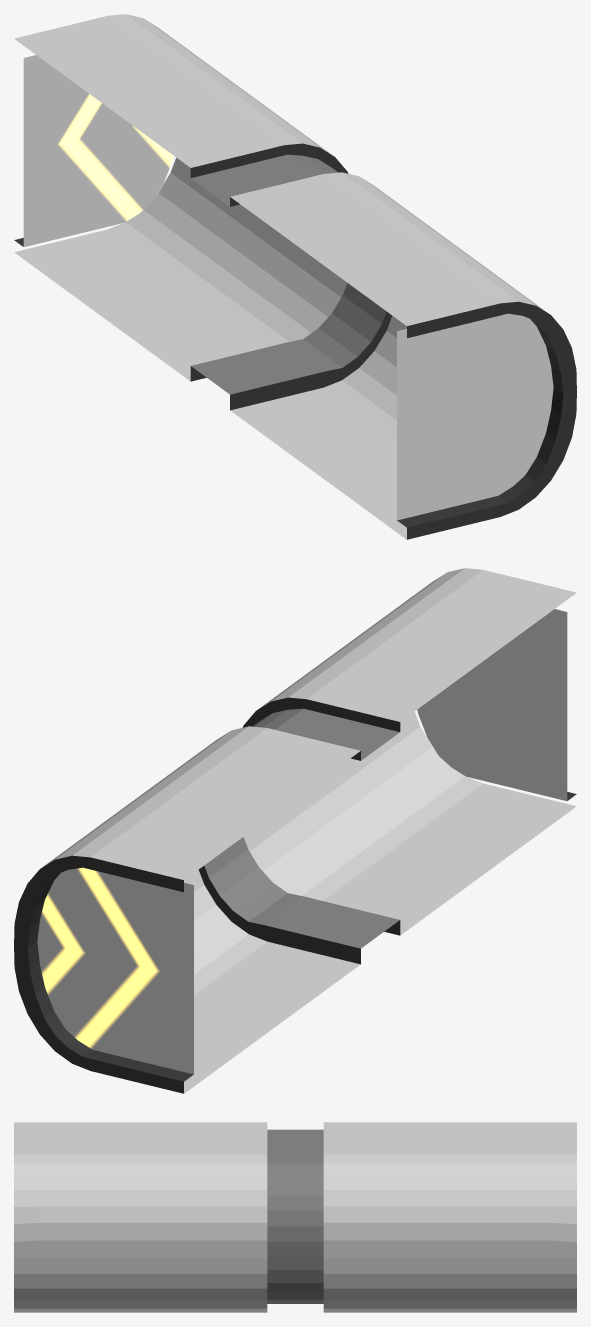
File: LP_GPE_ConveyerBeltTAIL2.fbx
The picture shows the model from 3 angles, top to bottom: view 1: azimuth 30°, elevation 25°; view 2: azimuth 150°, elevation 25°; view 3: azimuth 270°, elevation 25°; orthographic projection. The views are drawn at different scales.
Parts seen in each view (by area): view 1: ConveyerBeltTAIL2; view 2: ConveyerBeltTAIL2; view 3: ConveyerBeltTAIL2.
Part boxes in pixels (x1,y1,x2,y2): ConveyerBeltTAIL2: (14,14,576,539); ConveyerBeltTAIL2: (14,568,576,1093); ConveyerBeltTAIL2: (14,1122,576,1312).
Bounding box in the file's own units: 50 × 60 × 200.
